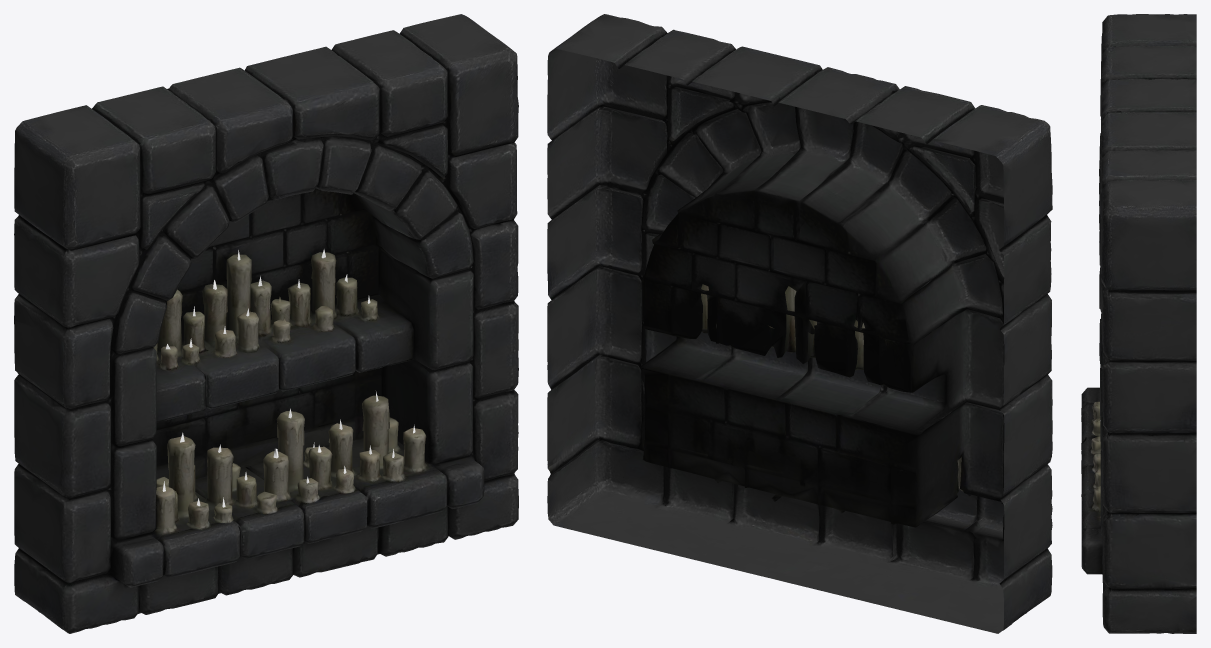
The model's file is Wall_Candles_02.fbx.
The picture shows the model from 3 angles, left to right: view 1: azimuth 30°, elevation 25°; view 2: azimuth 150°, elevation 25°; view 3: azimuth 270°, elevation 25°; orthographic projection. The views are drawn at different scales.
Visible parts, largest first — view 1: Walls_Candles_02; view 2: Walls_Candles_02; view 3: Walls_Candles_02.
Part boxes in pixels (box(x1,y1,x2,y2)): Walls_Candles_02: box(14, 14, 518, 633); Walls_Candles_02: box(547, 14, 1052, 633); Walls_Candles_02: box(1081, 14, 1196, 633).
Size of the model in its own units: 304 by 303 by 74.09.
